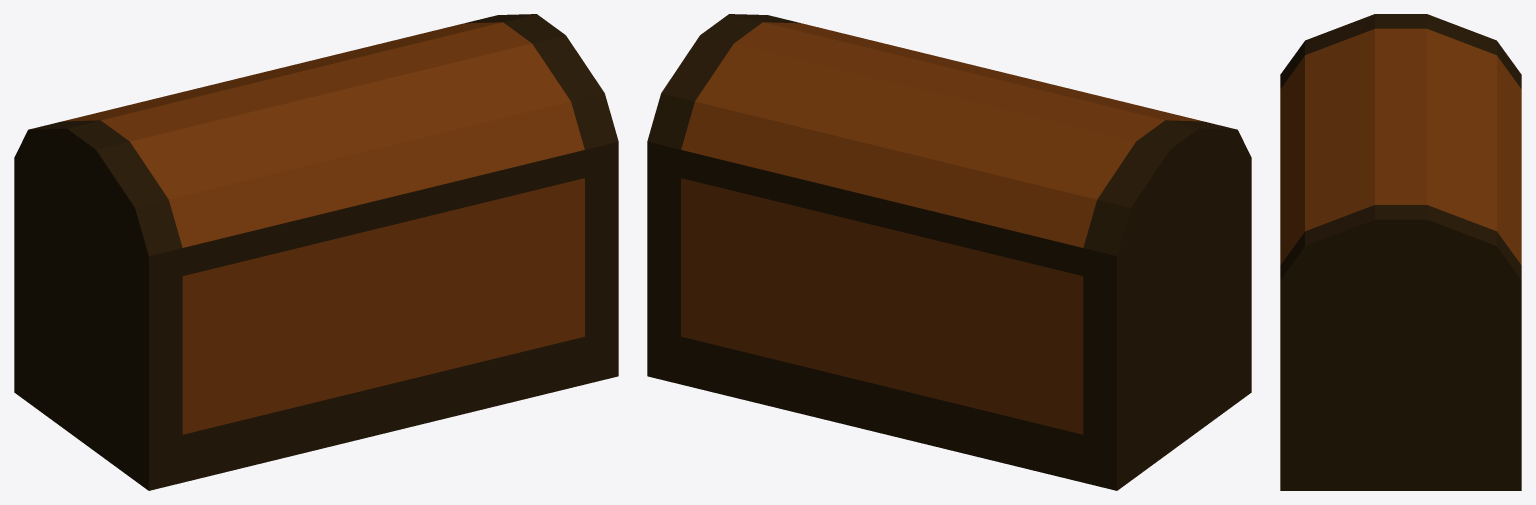
Rendered from Chest.fbx.
3 renders of one model, left to right at view 1: azimuth 30°, elevation 25°; view 2: azimuth 150°, elevation 25°; view 3: azimuth 270°, elevation 25°, orthographic. The views are drawn at different scales.
Parts seen in each view (by area): view 1: Cube.026; view 2: Cube.026; view 3: Cube.026.
Part boxes in pixels (bbox=[...]): Cube.026: bbox=[14, 14, 618, 490]; Cube.026: bbox=[647, 14, 1251, 490]; Cube.026: bbox=[1280, 14, 1521, 490].
Bounding box in the file's own units: 189 × 116 × 93.7.
